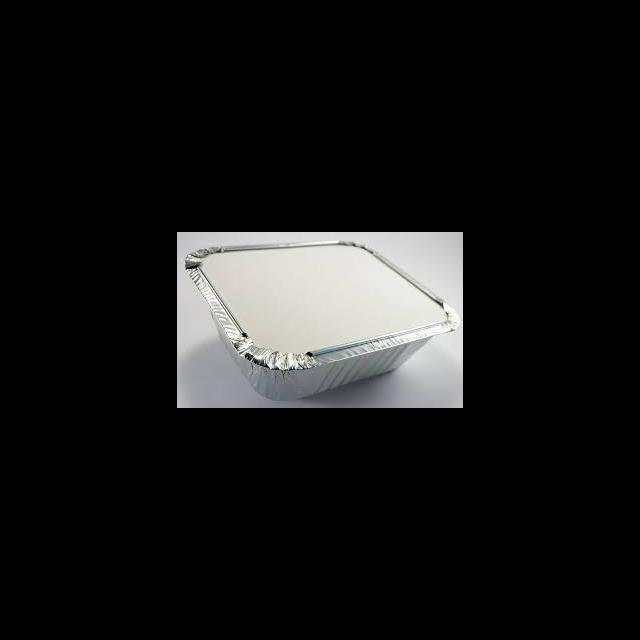metal: (185, 239, 460, 398)
